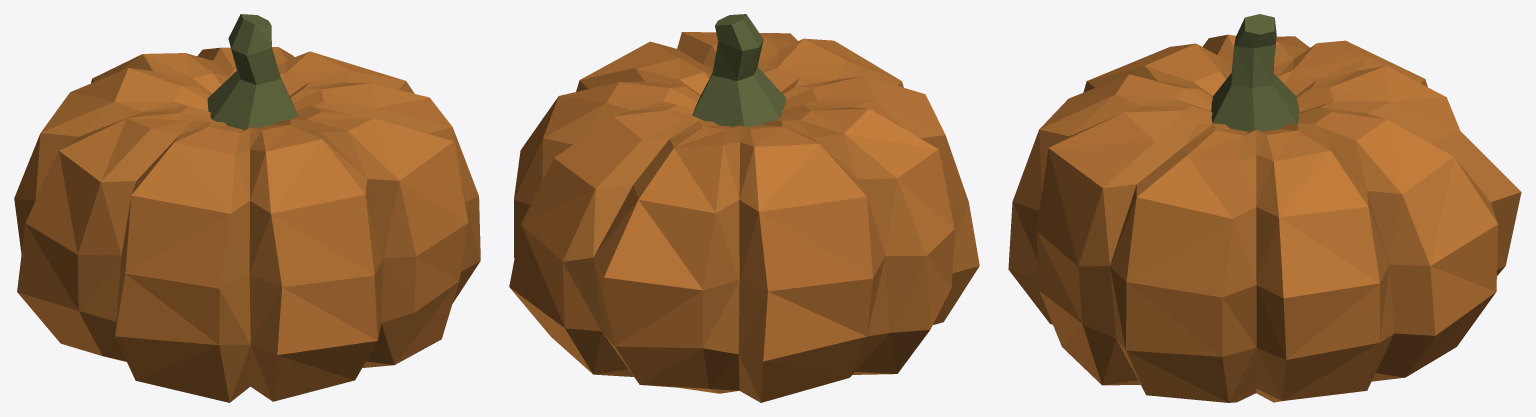
The model's file is pumpkin.glb.
3 renders of one model, left to right at view 1: azimuth 30°, elevation 25°; view 2: azimuth 150°, elevation 25°; view 3: azimuth 270°, elevation 25°, orthographic. The views are drawn at different scales.
Parts seen in each view (by area): view 1: SM_Prop_Pumpkin_01; view 2: SM_Prop_Pumpkin_01; view 3: SM_Prop_Pumpkin_01.
Part boxes in pixels (x1=…): SM_Prop_Pumpkin_01: x1=14, y1=14, x2=480, y2=402; SM_Prop_Pumpkin_01: x1=509, y1=14, x2=979, y2=402; SM_Prop_Pumpkin_01: x1=1008, y1=14, x2=1521, y2=402.
Bounding box in the file's own units: 42.95 × 31.9 × 44.29.
1 material, 1 textured.
